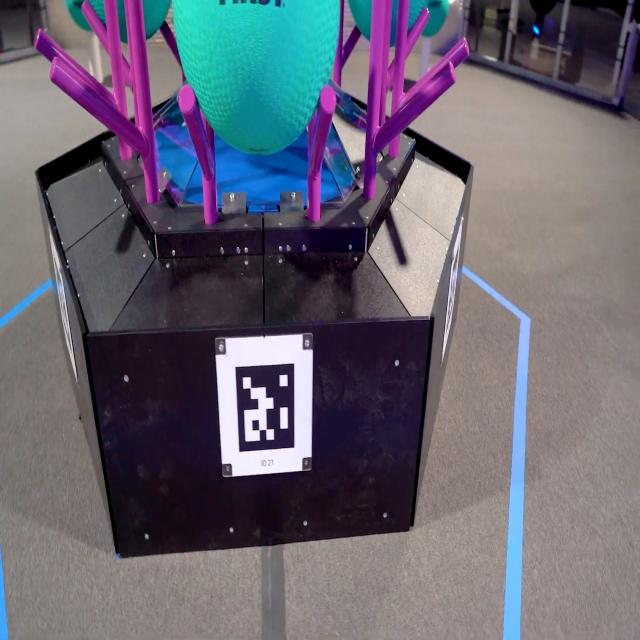Algae: (171, 0, 340, 156), (65, 0, 171, 43), (348, 0, 425, 47), (413, 0, 449, 37)
Coral: (420, 36, 431, 81)
